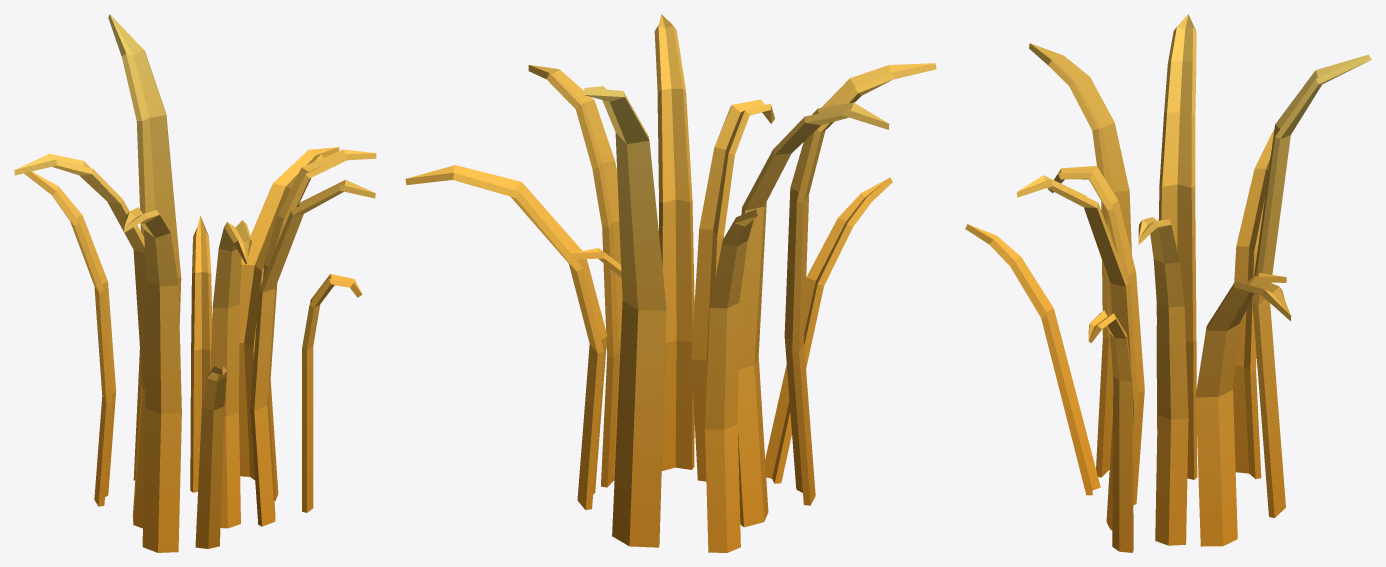
The model's file is plants yellow 2.fbx.
The picture shows the model from 3 angles, left to right: view 1: azimuth 30°, elevation 25°; view 2: azimuth 150°, elevation 25°; view 3: azimuth 270°, elevation 25°; orthographic projection. The views are drawn at different scales.
Parts seen in each view (by area): view 1: plants yellow 2; view 2: plants yellow 2; view 3: plants yellow 2.
Part boxes in pixels (x1,y1,x2,y2): plants yellow 2: [14, 14, 376, 552]; plants yellow 2: [405, 14, 936, 552]; plants yellow 2: [965, 14, 1371, 552].
Bounding box in the file's own units: 162 × 178 × 145.
